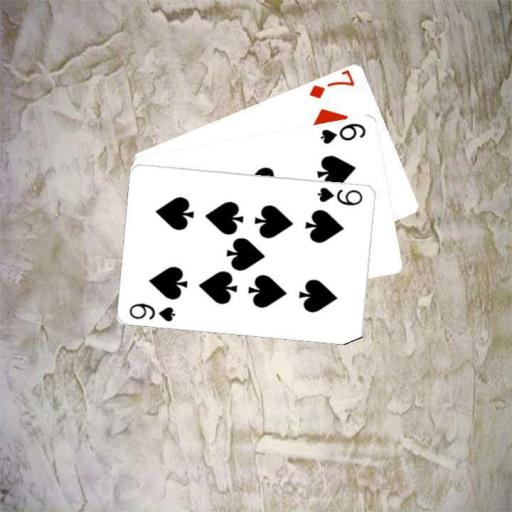card-corner: (306, 68, 356, 100), (317, 120, 368, 145), (314, 183, 365, 207), (127, 299, 177, 323)
